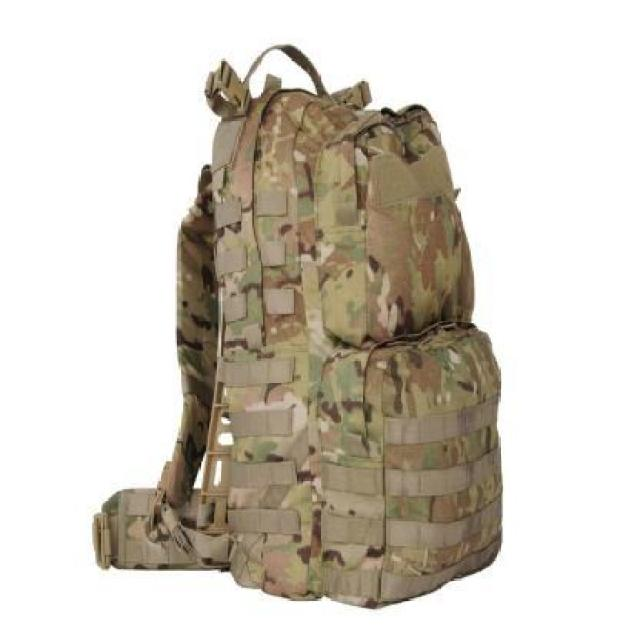backpack: (89, 35, 509, 614)
